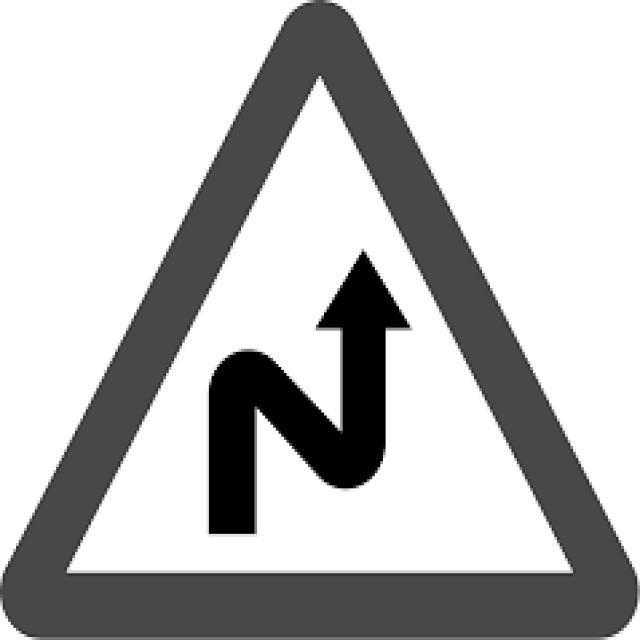right reverse bend: (28, 17, 610, 619)
